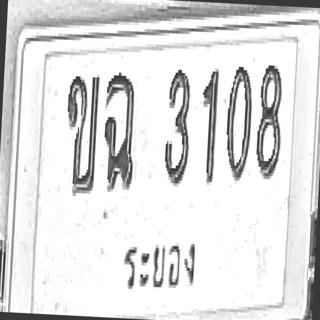A02: (62, 71, 100, 195)
A09: (101, 70, 139, 192)
N00: (223, 63, 253, 181)
N01: (198, 65, 220, 185)
N03: (162, 66, 193, 184)
N08: (254, 62, 284, 180)
P53: (115, 219, 204, 310)
